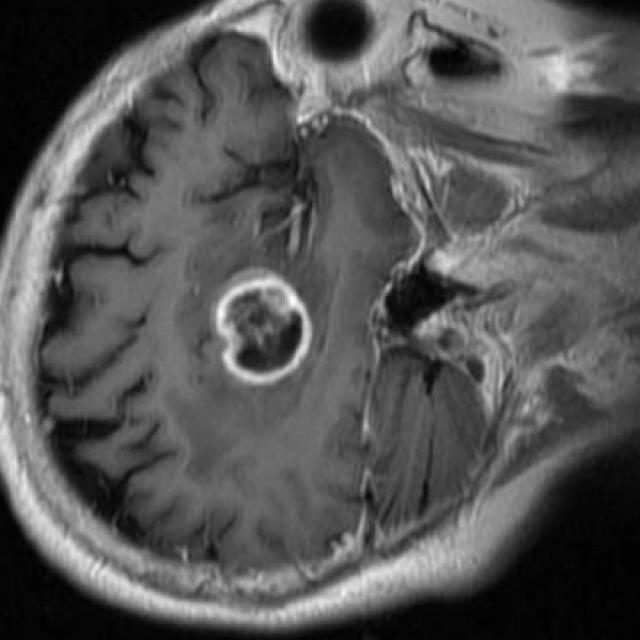glioma: (210, 267, 314, 385)
